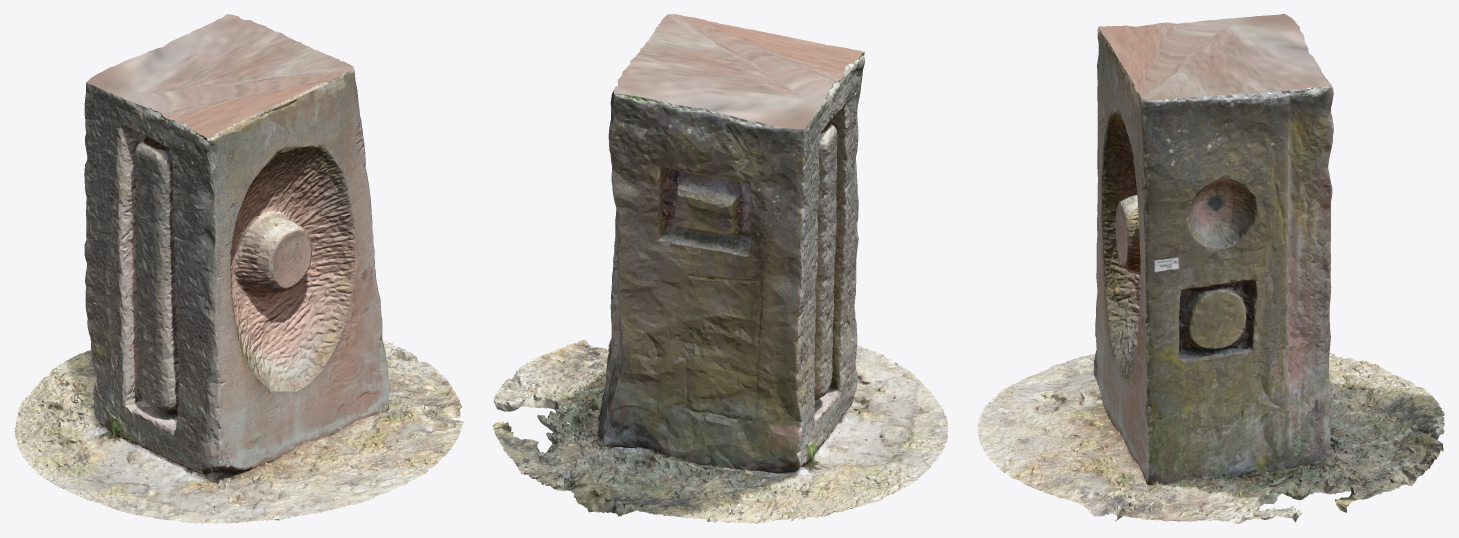
3 renders of one model, left to right at view 1: azimuth 30°, elevation 25°; view 2: azimuth 150°, elevation 25°; view 3: azimuth 270°, elevation 25°, orthographic. The views are drawn at different scales.
Parts seen in each view (by area): view 1: 1k.25k; view 2: 1k.25k; view 3: 1k.25k.
Part boxes in pixels (left/top/right/bottom): 1k.25k: left=14, top=14, right=463, bottom=523; 1k.25k: left=492, top=14, right=948, bottom=523; 1k.25k: left=977, top=14, right=1444, bottom=523.
Bounding box in the file's own units: 3.38 × 3.11 × 3.39.
Materials: 1 (1 with a texture image).
